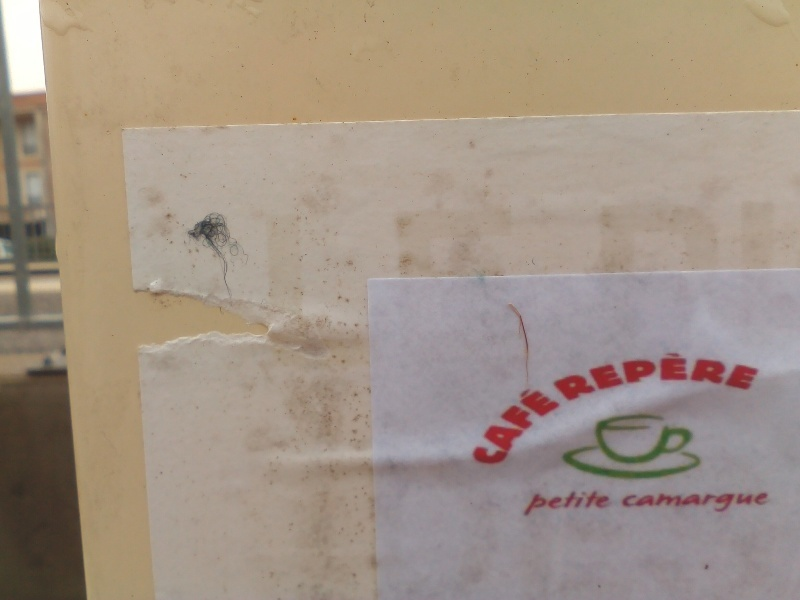text: (465, 383, 480, 473), (481, 383, 496, 473), (497, 383, 512, 473), (513, 383, 528, 473), (529, 383, 544, 473), (545, 383, 560, 473), (545, 343, 560, 407), (561, 343, 576, 407), (577, 343, 592, 407), (593, 343, 608, 407), (609, 343, 624, 407), (625, 343, 640, 407), (641, 343, 656, 407), (657, 343, 672, 407), (673, 343, 688, 407), (689, 343, 704, 407), (705, 343, 720, 407), (721, 343, 736, 407), (737, 343, 752, 407), (753, 343, 762, 407), (561, 383, 566, 473), (537, 343, 544, 407), (545, 488, 560, 517), (561, 488, 576, 517), (577, 488, 592, 517), (593, 488, 608, 517), (625, 489, 640, 514), (641, 489, 656, 514), (657, 489, 672, 514), (673, 489, 688, 514), (689, 489, 704, 514), (705, 489, 720, 514), (721, 489, 736, 514), (737, 489, 752, 514), (753, 489, 768, 514), (461, 383, 464, 473), (537, 488, 544, 517), (609, 488, 615, 517), (622, 489, 624, 514), (769, 489, 770, 514)
